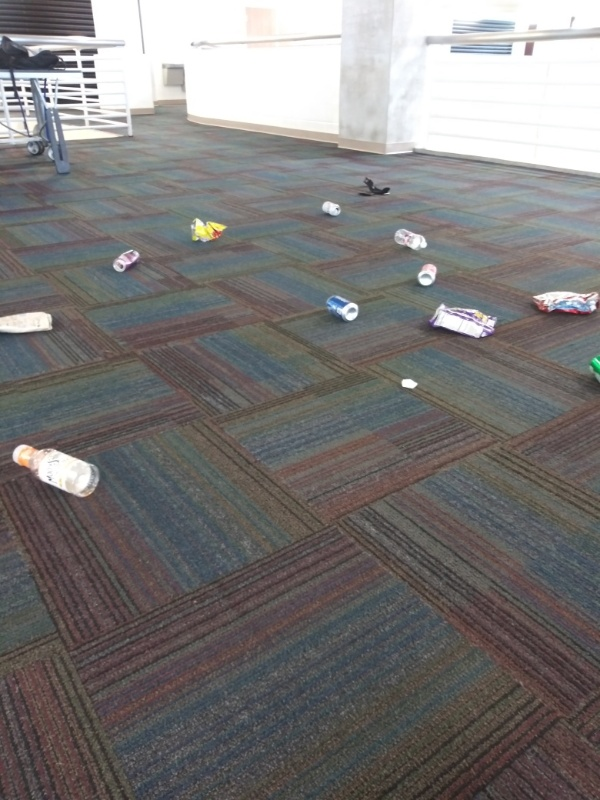bag: (424, 297, 502, 345), (526, 287, 600, 321), (1, 305, 57, 337), (186, 214, 231, 247)
bottle: (9, 441, 101, 506), (389, 226, 429, 254)
can: (322, 292, 360, 325), (111, 248, 147, 274), (315, 197, 345, 220), (416, 259, 440, 287), (585, 351, 600, 377)
